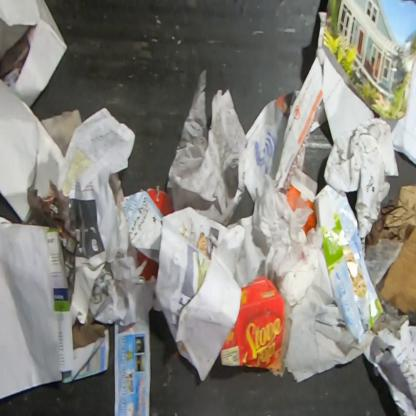cardboard: (220, 275, 285, 372), (380, 226, 415, 316), (143, 184, 173, 216), (138, 250, 158, 280)
